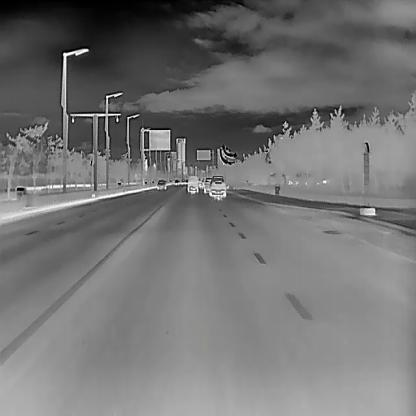car: (210, 175, 226, 199), (186, 175, 199, 193), (202, 177, 212, 193), (157, 180, 167, 190)
